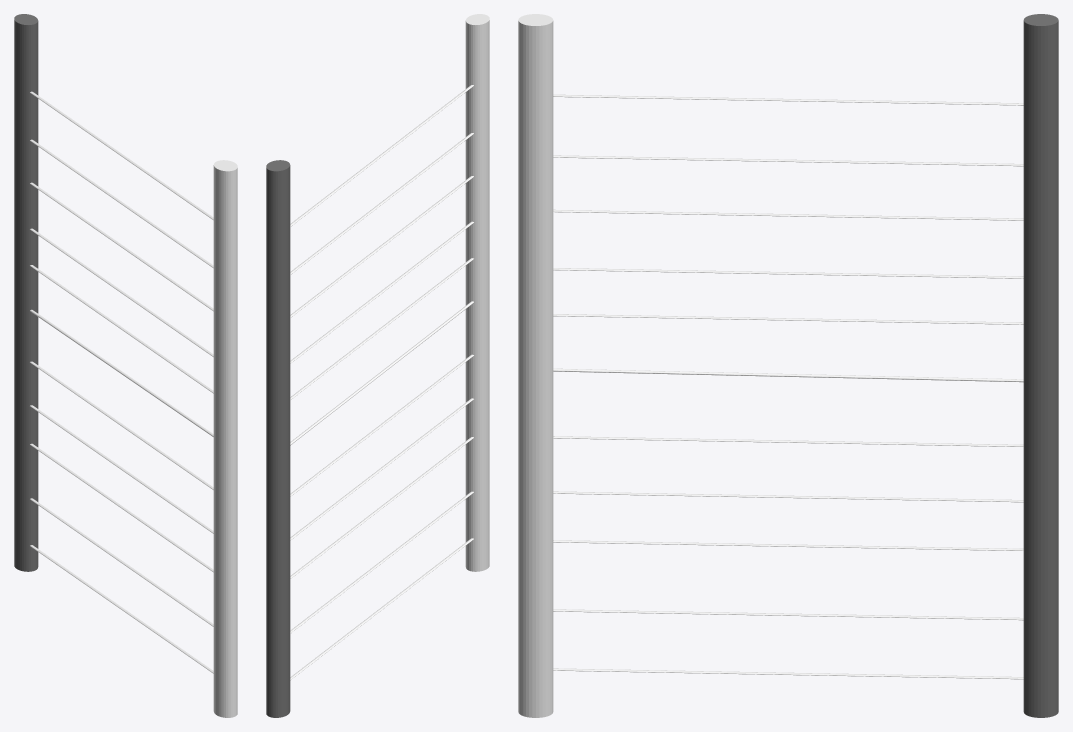
Rendered from Plot.glb.
The picture shows the model from 3 angles, left to right: view 1: azimuth 30°, elevation 25°; view 2: azimuth 150°, elevation 25°; view 3: azimuth 270°, elevation 25°; orthographic projection. The views are drawn at different scales.
Parts seen in each view (by area): view 1: Cylinder.003, Cylinder.001, Cylinder.002, Cylinder.006, Cylinder.011, Cylinder.007, Cylinder.012, Cylinder.004, Cylinder.005, Cylinder.008, Cylinder.009, Cylinder.013 (+1 smaller); view 2: Cylinder.001, Cylinder.003, Cylinder.002, Cylinder.005, Cylinder.004, Cylinder.007, Cylinder.008, Cylinder.006, Cylinder.010, Cylinder.012, Cylinder.013, Cylinder.009 (+1 smaller); view 3: Cylinder.001, Cylinder.003, Cylinder.002, Cylinder.007, Cylinder.008, Cylinder.013, Cylinder.005, Cylinder.011, Cylinder.012, Cylinder.006, Cylinder.009, Cylinder.004 (+1 smaller).
Part boxes in pixels (x1,y1,x2,y2): Cylinder.003: (213, 160, 237, 717); Cylinder.001: (14, 14, 38, 571); Cylinder.002: (30, 309, 213, 436); Cylinder.006: (30, 443, 213, 572); Cylinder.011: (30, 182, 213, 311); Cylinder.007: (30, 498, 213, 626); Cylinder.012: (30, 139, 213, 267); Cylinder.004: (30, 361, 213, 489); Cylinder.005: (30, 405, 213, 533); Cylinder.008: (30, 545, 213, 673); Cylinder.009: (30, 265, 213, 393); Cylinder.013: (30, 91, 213, 219); Cylinder.001: (266, 160, 290, 717); Cylinder.003: (465, 14, 489, 571); Cylinder.002: (290, 301, 473, 445); Cylinder.005: (290, 398, 473, 540); Cylinder.004: (290, 354, 473, 496); Cylinder.007: (290, 491, 473, 633); Cylinder.008: (290, 538, 473, 680); Cylinder.006: (290, 437, 473, 578); Cylinder.010: (290, 221, 473, 363); Cylinder.012: (290, 133, 473, 274); Cylinder.013: (290, 85, 473, 226); Cylinder.009: (290, 258, 473, 399); Cylinder.001: (1023, 14, 1058, 717); Cylinder.003: (518, 14, 553, 717); Cylinder.002: (553, 368, 1023, 382); Cylinder.007: (553, 609, 1023, 620); Cylinder.008: (553, 668, 1023, 679); Cylinder.013: (553, 94, 1023, 105); Cylinder.005: (553, 491, 1023, 502); Cylinder.011: (553, 209, 1023, 220); Cylinder.012: (553, 155, 1023, 166); Cylinder.006: (553, 540, 1023, 550); Cylinder.009: (553, 314, 1023, 324); Cylinder.004: (553, 436, 1023, 446).
Bounding box in the file's own units: 0.3107 × 8.26 × 5.85.
13 materials, 11 textured.
